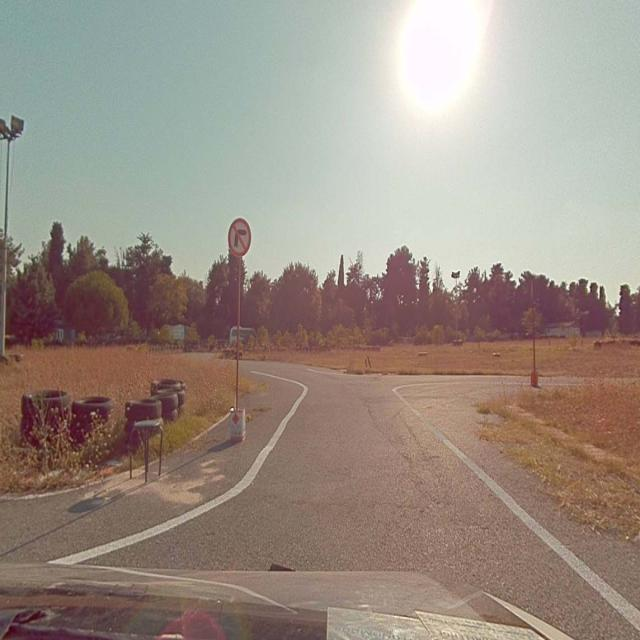sagadonulmez: (228, 218, 251, 257)
